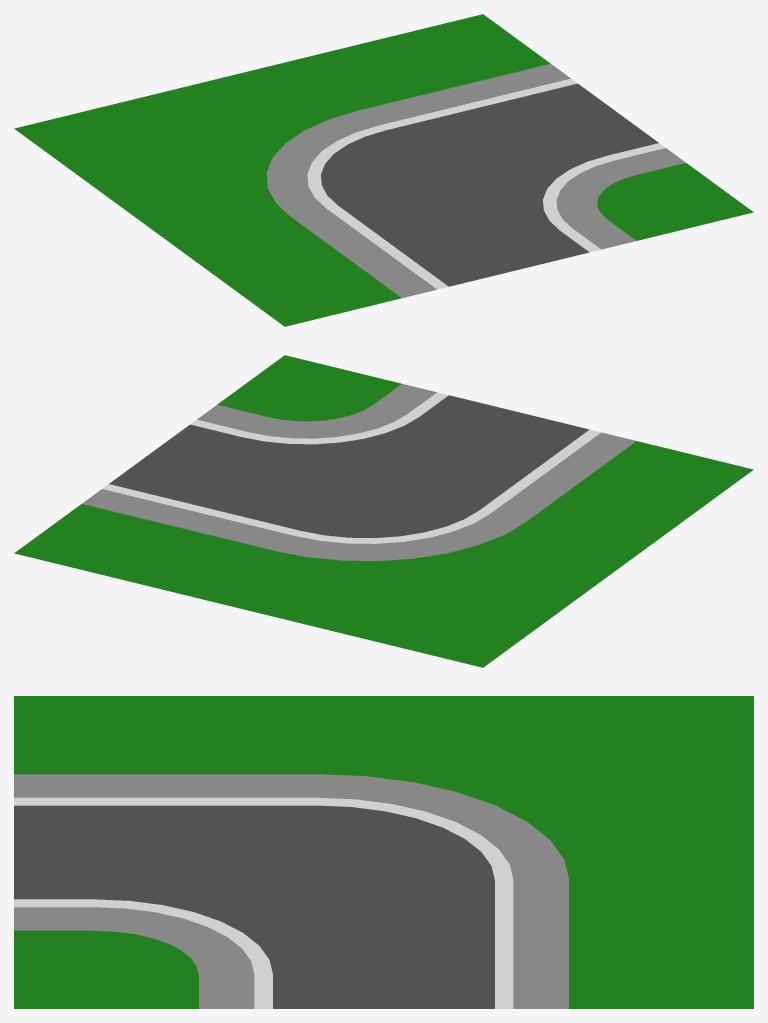
File: Road-Turn.fbx
3 views of the same model, one above another, from view 1: azimuth 30°, elevation 25°; view 2: azimuth 150°, elevation 25°; view 3: azimuth 270°, elevation 25° (orthographic). The views are drawn at different scales.
Parts seen in each view (by area): view 1: Road-Turn_Terrain, Road-Turn, Road-Turn_Sidewalk, Road-Turn_Whitelines; view 2: Road-Turn_Terrain, Road-Turn, Road-Turn_Sidewalk, Road-Turn_Whitelines; view 3: Road-Turn_Terrain, Road-Turn, Road-Turn_Sidewalk, Road-Turn_Whitelines.
Part boxes in pixels (x1,y1,x2,y2): Road-Turn_Terrain: [14, 14, 753, 326]; Road-Turn: [321, 83, 658, 286]; Road-Turn_Sidewalk: [266, 63, 685, 297]; Road-Turn_Whitelines: [307, 78, 665, 289]; Road-Turn_Terrain: [14, 355, 753, 667]; Road-Turn: [109, 395, 589, 537]; Road-Turn_Sidewalk: [82, 384, 635, 560]; Road-Turn_Whitelines: [102, 392, 600, 543]; Road-Turn_Terrain: [14, 696, 753, 1008]; Road-Turn: [14, 805, 494, 1008]; Road-Turn_Sidewalk: [14, 774, 568, 1008]; Road-Turn_Whitelines: [14, 797, 513, 1008].
Size of the model in its own units: 20 by 0 by 20.
